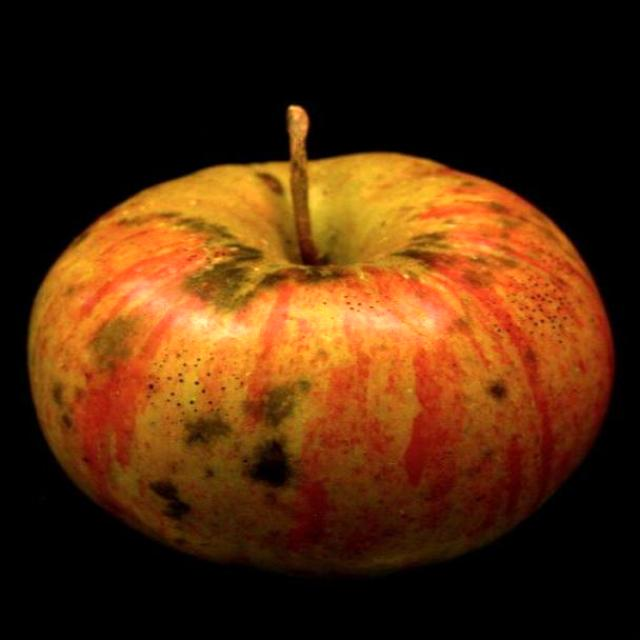BLOTCH: (26, 107, 610, 590)
